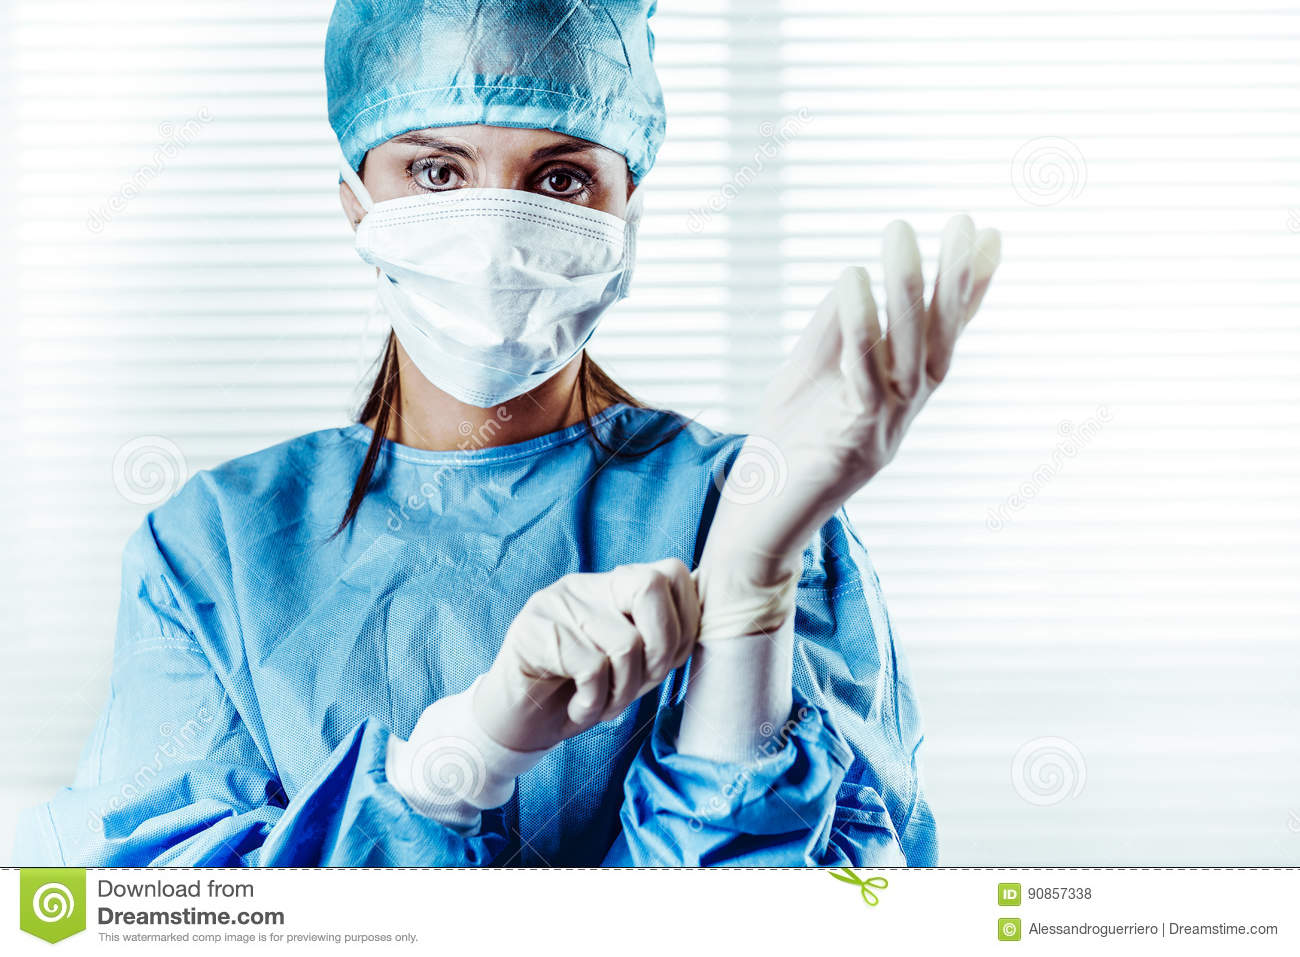mask: (348, 194, 629, 405)
